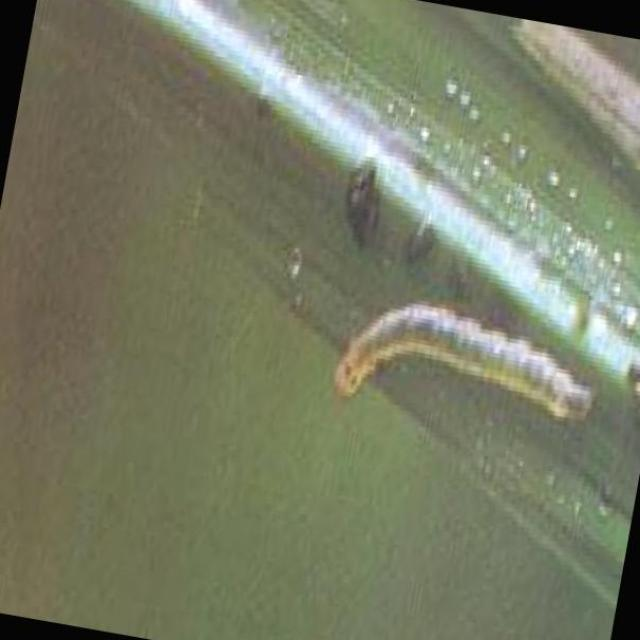leaf folder: (334, 310, 594, 414)
